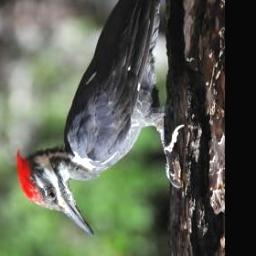Woodpecker: (16, 0, 185, 238)
